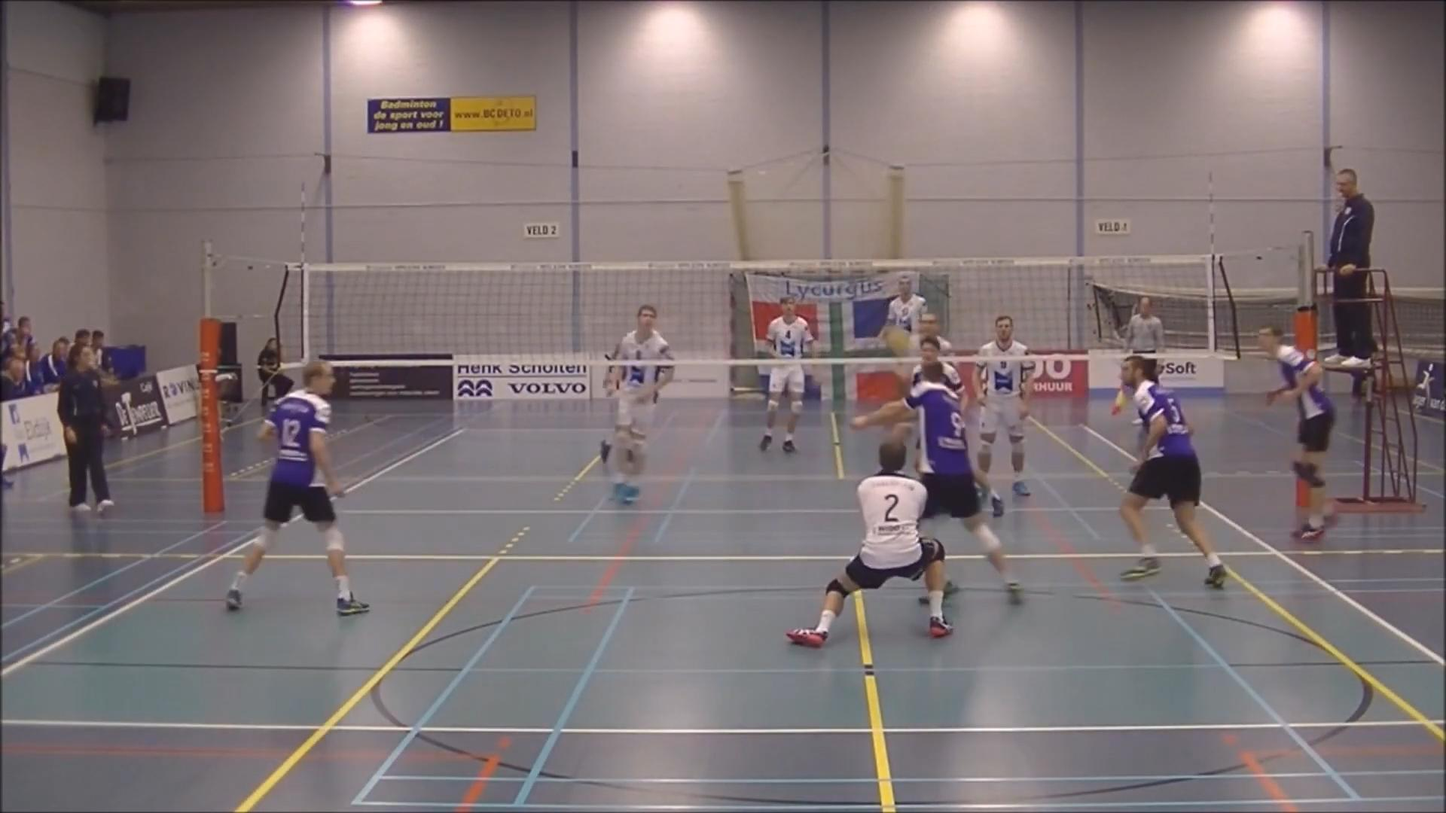ricezione: (852, 360, 1030, 609), (788, 435, 957, 649)
